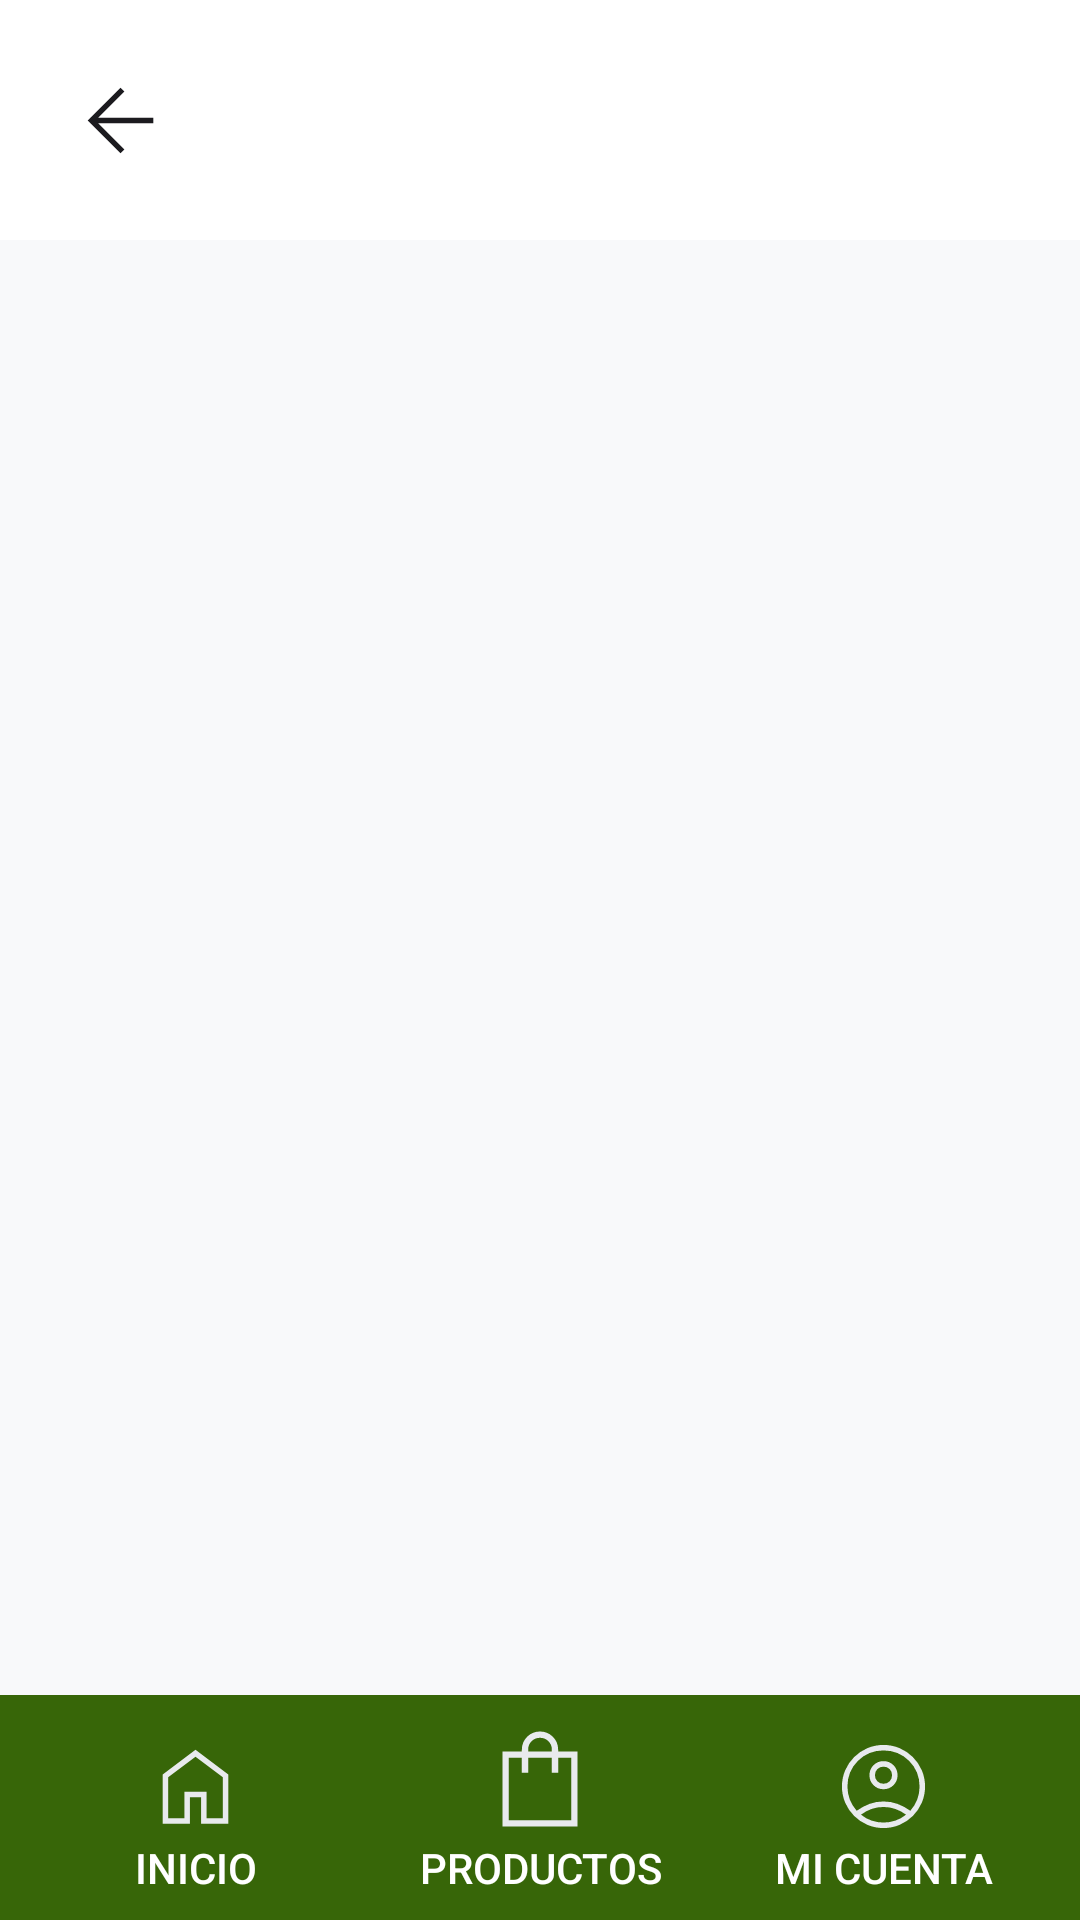

Screen size 1080x1920. Icon name, then its center in pixels as point (x, y):
Volver: point (121, 120)
